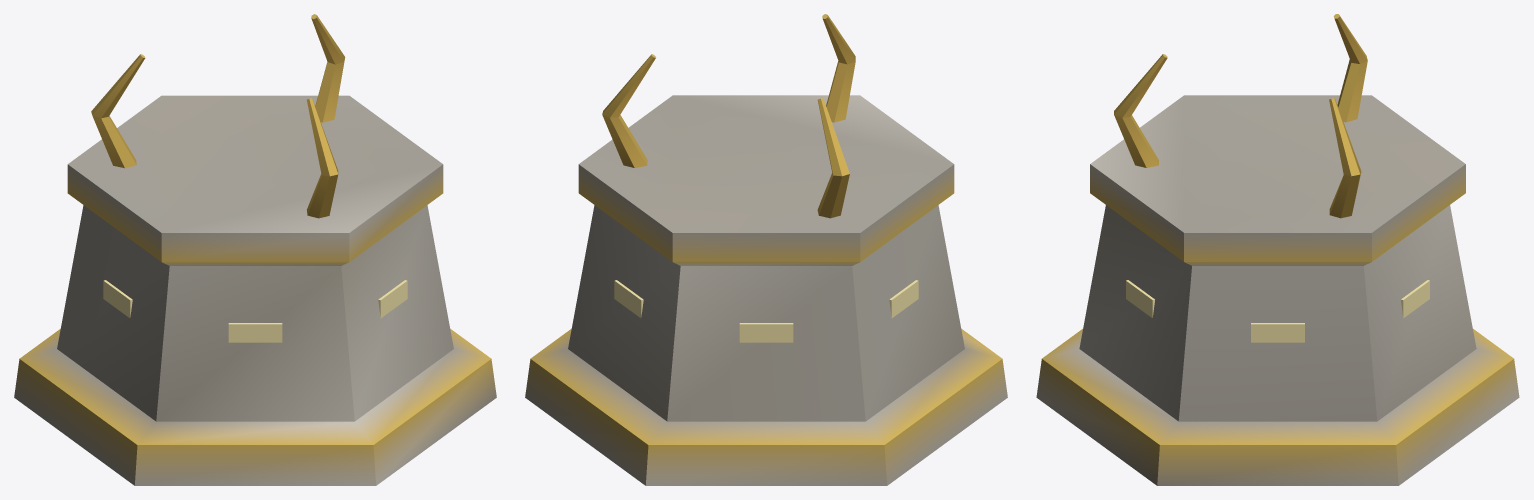
The model's file is prism_pedestal.glb.
The picture shows the model from 3 angles, left to right: view 1: azimuth 30°, elevation 25°; view 2: azimuth 150°, elevation 25°; view 3: azimuth 270°, elevation 25°; orthographic projection.
Parts seen in each view (by area): view 1: prism_pedestal, prism_pedestal_glow; view 2: prism_pedestal, prism_pedestal_glow; view 3: prism_pedestal, prism_pedestal_glow.
Boxes of the visible parts, left/top/right/bottom form: prism_pedestal: left=14, top=14, right=496, bottom=485; prism_pedestal_glow: left=103, top=280, right=407, bottom=342; prism_pedestal: left=525, top=14, right=1007, bottom=485; prism_pedestal_glow: left=614, top=280, right=918, bottom=342; prism_pedestal: left=1036, top=14, right=1519, bottom=485; prism_pedestal_glow: left=1126, top=280, right=1429, bottom=342.
Size of the model in its own units: 3.9 by 3.52 by 4.5.
